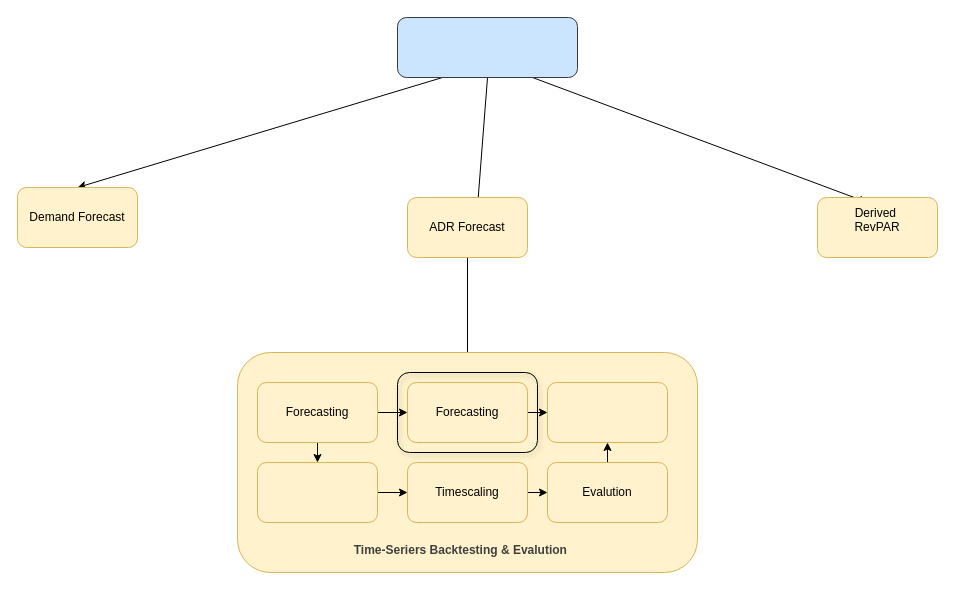
This 955x590 diagram has some shape labels left out. The shapes that lost their labels are listed below. From the top down, each one's centre as x and y in pixels, then its label:
(x=487, y=47): Forecasting (Demand & Price)
(x=607, y=412): Time-Series Backtesting
(x=317, y=492): Basecasting
